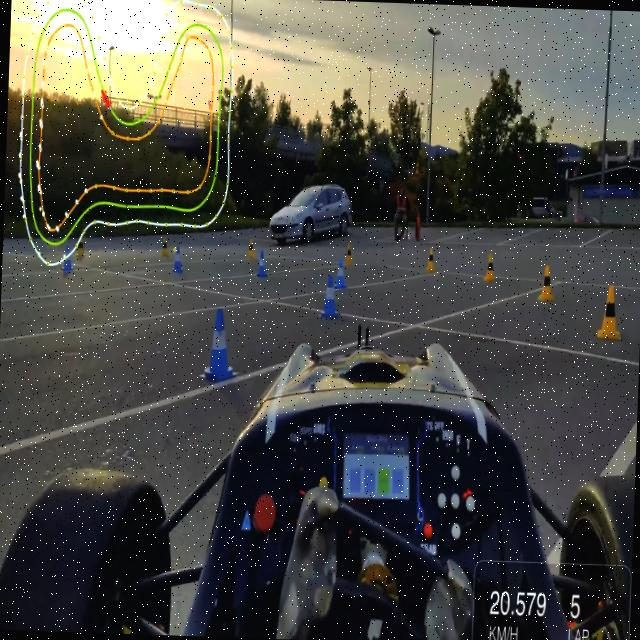blue_cone: (205, 308, 233, 378), (320, 272, 338, 322), (54, 238, 74, 278), (168, 239, 184, 281), (253, 246, 269, 283), (334, 248, 349, 284)
yellow_cone: (596, 284, 626, 342), (535, 264, 558, 308), (481, 248, 495, 286), (422, 242, 436, 275)
